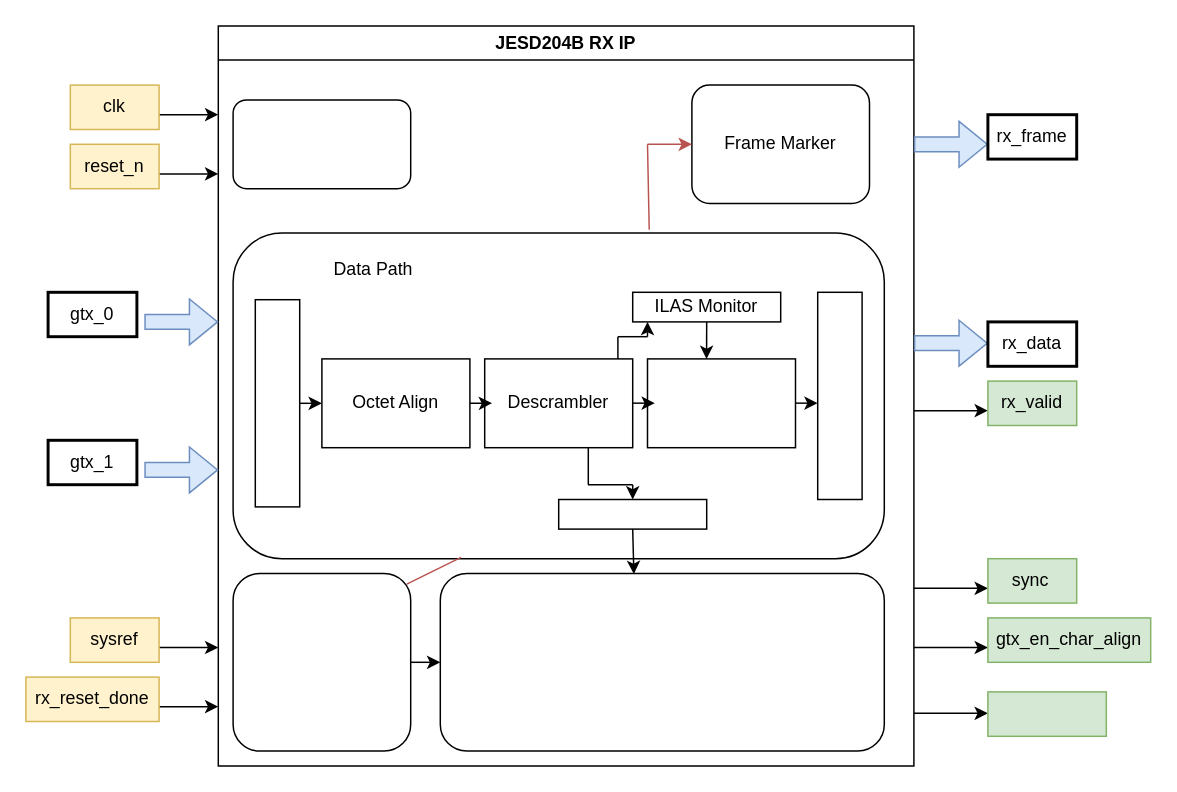
Some shapes in this 1177 by 792 pixel diagram are drawn without their labels. The shapes that lost their labels are listed below. From the top down, each one's centre as x and y in pixels, then its label:
At (x=321, y=143): "Global Signals".
At (x=277, y=402): "Input Reg".
At (x=721, y=402): "Elastic Buffer".
At (x=839, y=395): "Output Reg".
At (x=632, y=513): "CGS FSM".
At (x=321, y=661): "LMFC".
At (x=661, y=661): "Control FSM".
At (x=1046, y=713): "rx_reset_gt".
